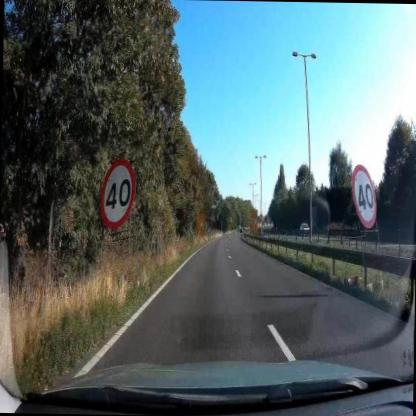road_sign: (101, 160, 136, 228), (353, 166, 376, 229)
